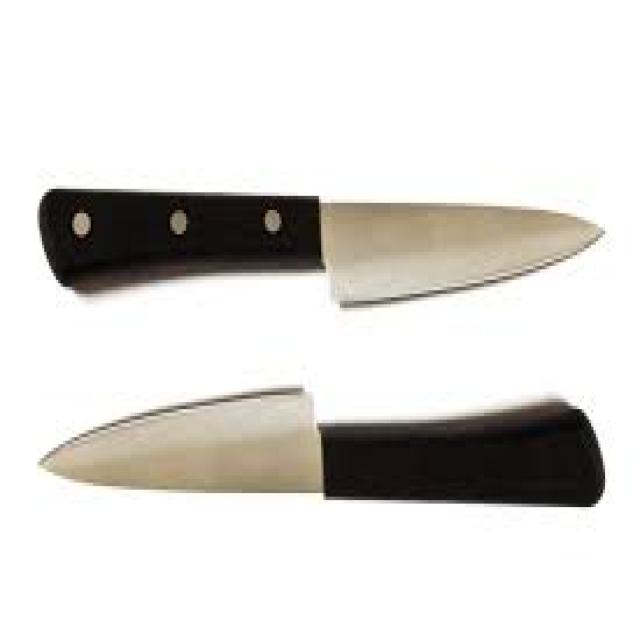Knife: (37, 381, 605, 507), (37, 186, 605, 304)
